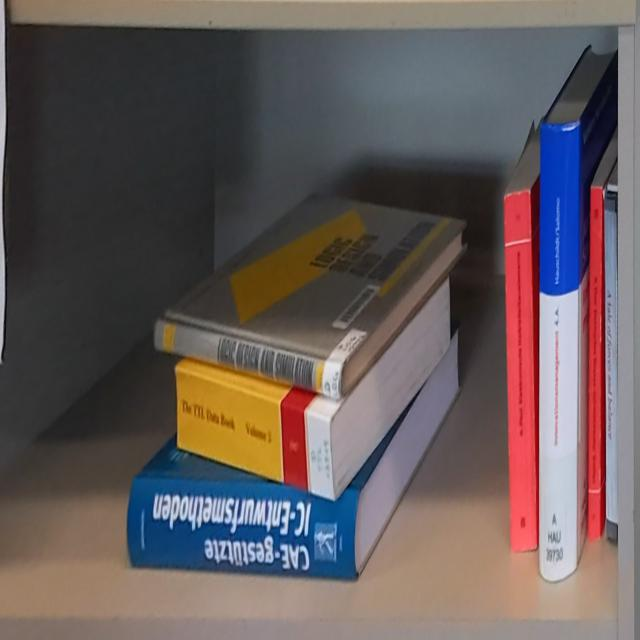Book Spine: (126, 478, 360, 579), (175, 366, 335, 504), (538, 120, 582, 582), (152, 315, 343, 397), (505, 192, 539, 553), (588, 184, 604, 540), (606, 191, 618, 543)
